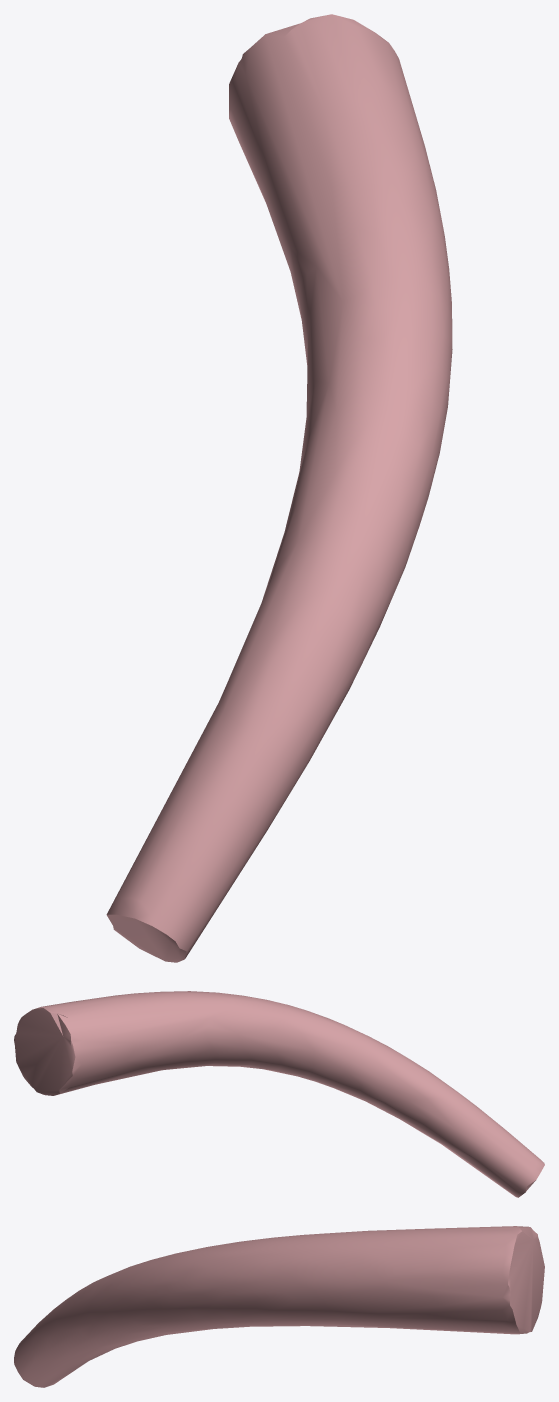
File: fma68212_fj2513.glb
3 views of the same model, one above another, from view 1: azimuth 30°, elevation 25°; view 2: azimuth 150°, elevation 25°; view 3: azimuth 270°, elevation 25° (orthographic). The views are drawn at different scales.
Parts seen in each view (by area): view 1: FMA68212_FJ2513; view 2: FMA68212_FJ2513; view 3: FMA68212_FJ2513.
Boxes of the visible parts, x1=… form: FMA68212_FJ2513: x1=106, y1=14, x2=452, y2=962; FMA68212_FJ2513: x1=14, y1=991, x2=544, y2=1197; FMA68212_FJ2513: x1=14, y1=1226, x2=544, y2=1387.
Bounding box in the file's own units: 0.0171 × 0.0128 × 0.0194.
